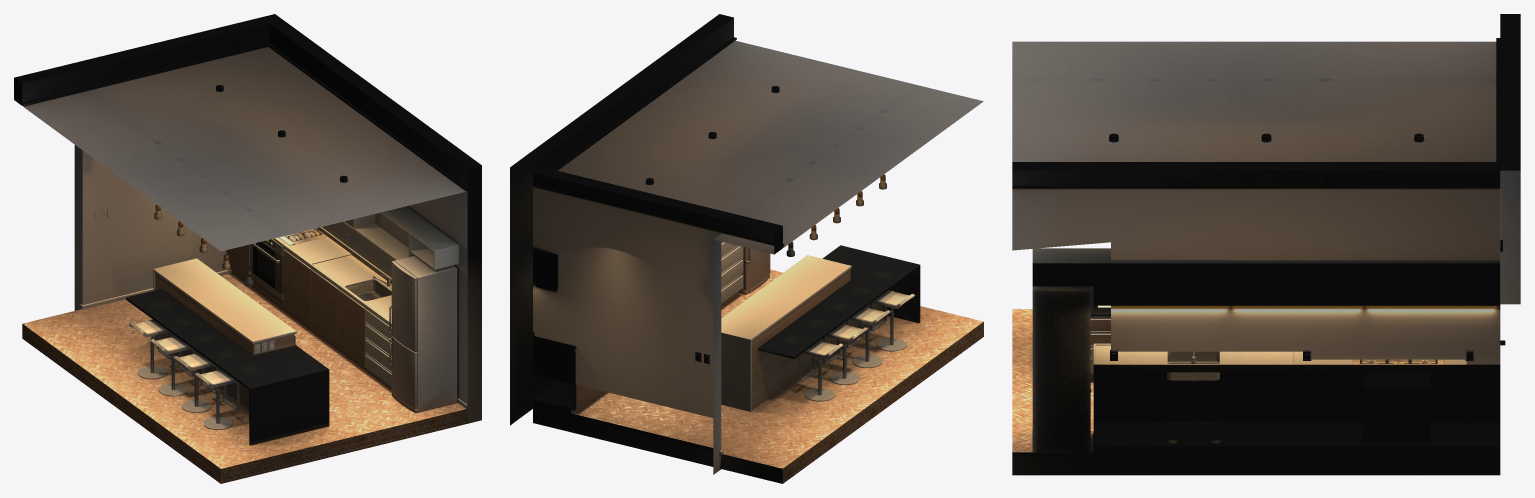
3 views of the same model, side by side, from view 1: azimuth 30°, elevation 25°; view 2: azimuth 150°, elevation 25°; view 3: azimuth 270°, elevation 25° (orthographic). The views are drawn at different scales.
Visible parts, largest first — view 1: Object723, Object722, Object720, Object725, Object719, Object724, Object721; view 2: Object723, Object720, Object722, Object725, Object724, Object721, Object719; view 3: Object720, Object723, Object724, Object725, Object722, Object718, Object719.
Boxes of the visible parts, bbox=[...] form: Object723: bbox=[22, 43, 467, 409]; Object722: bbox=[14, 79, 481, 483]; Object720: bbox=[14, 14, 481, 412]; Object725: bbox=[129, 206, 459, 429]; Object719: bbox=[154, 85, 457, 413]; Object724: bbox=[126, 270, 391, 445]; Object721: bbox=[74, 172, 481, 423]; Object723: bbox=[553, 37, 983, 455]; Object720: bbox=[510, 14, 782, 425]; Object722: bbox=[510, 14, 983, 483]; Object725: bbox=[533, 241, 915, 411]; Object724: bbox=[533, 245, 920, 416]; Object721: bbox=[510, 167, 721, 474]; Object719: bbox=[575, 86, 886, 409]; Object720: bbox=[1012, 14, 1520, 451]; Object723: bbox=[1012, 38, 1505, 456]; Object724: bbox=[1090, 286, 1500, 452]; Object725: bbox=[1032, 248, 1500, 382]; Object722: bbox=[1012, 162, 1500, 475]; Object718: bbox=[1096, 240, 1502, 360]; Object719: bbox=[1032, 134, 1444, 451].
Bounding box in the file's own units: 3.64 × 3.4 × 5.
8 materials, 8 textured.
